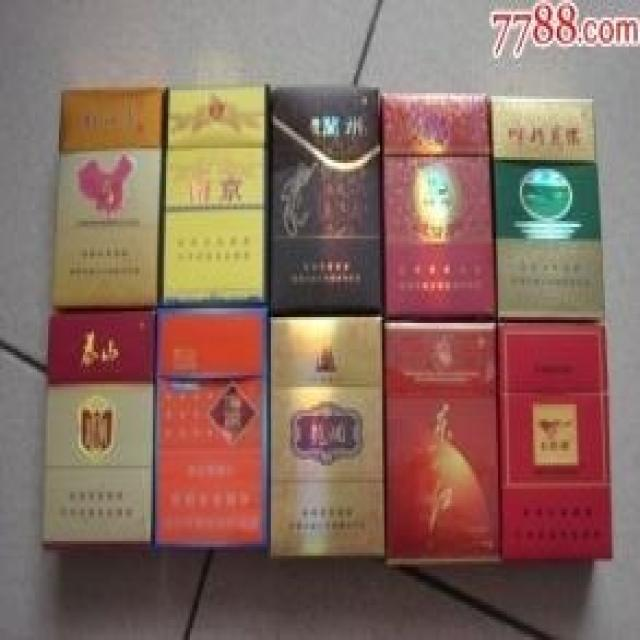box: (382, 317, 502, 564), (153, 305, 271, 547), (496, 323, 614, 561), (271, 317, 387, 556), (39, 308, 155, 544), (48, 87, 170, 311), (266, 87, 384, 317), (380, 93, 496, 323), (487, 93, 603, 320), (162, 87, 271, 305)
